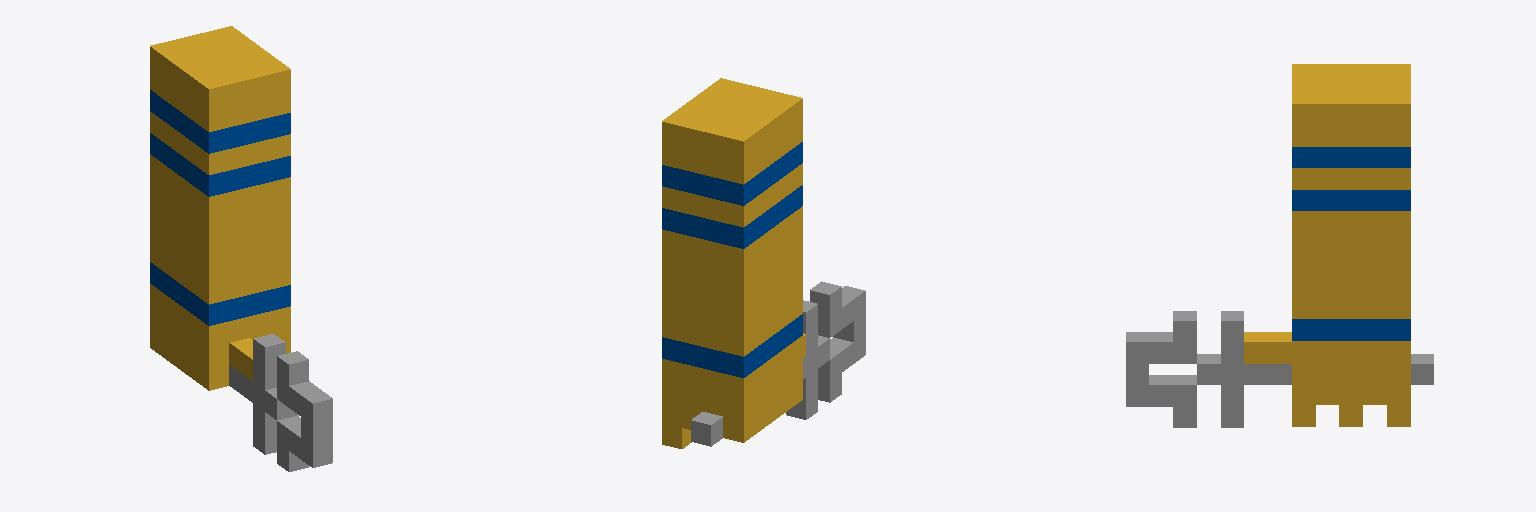
The picture shows the model from 3 angles: view 1: azimuth 30°, elevation 25°; view 2: azimuth 150°, elevation 25°; view 3: azimuth 270°, elevation 25°; orthographic projection.
Visible parts, largest first — view 1: object 1; view 2: object 1; view 3: object 1.
Part boxes in pixels (bbox=[...]): object 1: bbox=[150, 26, 332, 471]; object 1: bbox=[662, 78, 865, 448]; object 1: bbox=[1126, 64, 1433, 427].
Size of the model in its own units: 0.4 by 1.6 by 1.3.
1 materials, 1 textured.